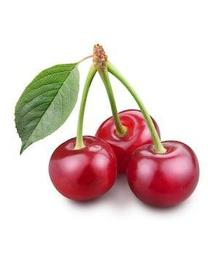cherry: (126, 141, 199, 208), (48, 135, 118, 203), (93, 109, 164, 176)
